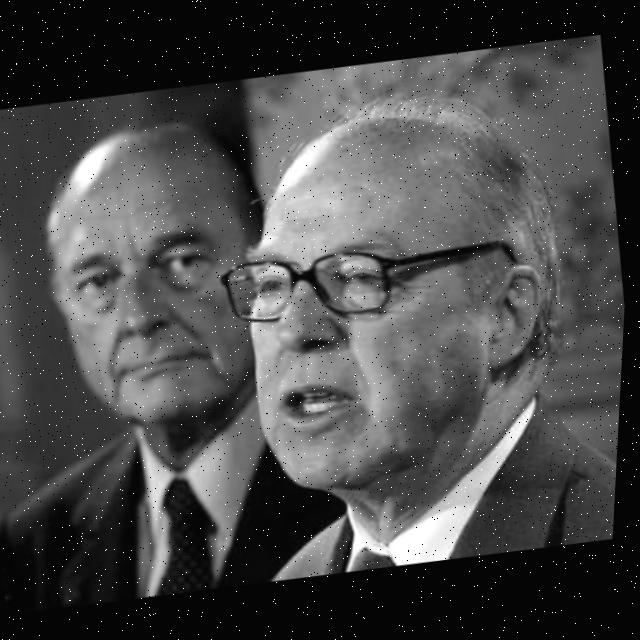face: (224, 119, 559, 506), (29, 125, 262, 435)
